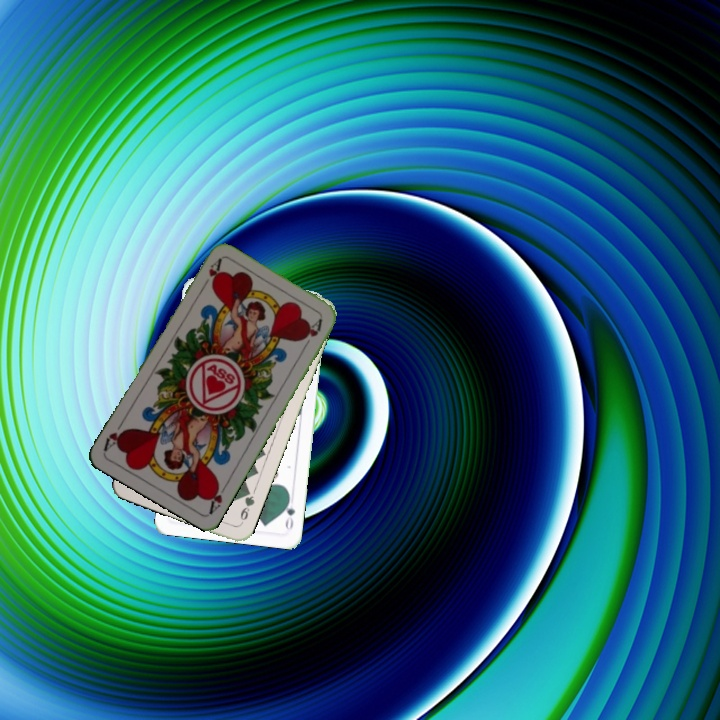G9: (236, 486, 257, 527)
GO: (280, 492, 298, 533)
HA: (197, 255, 224, 292), (205, 478, 231, 516)
